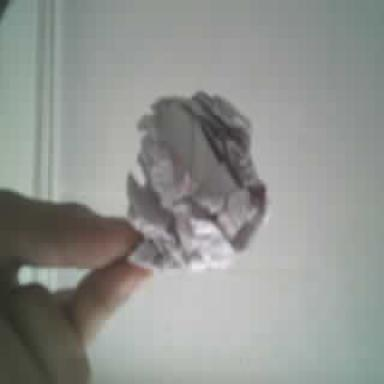paper: (127, 91, 266, 269)
